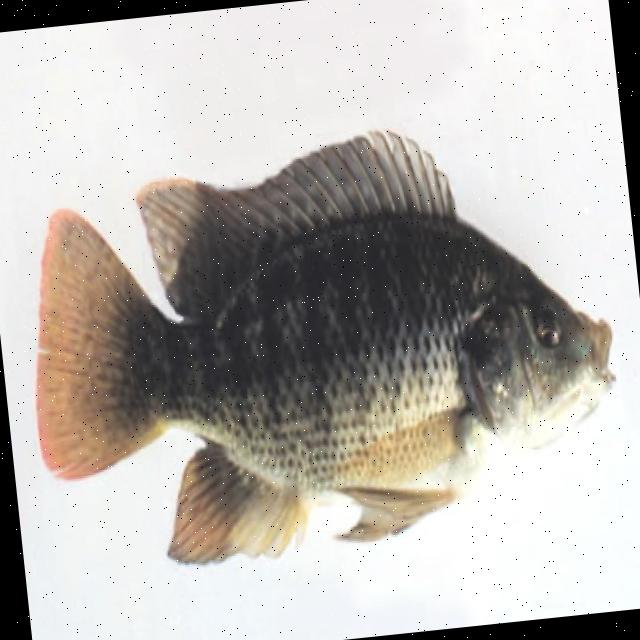ikan: (9, 102, 632, 582)
